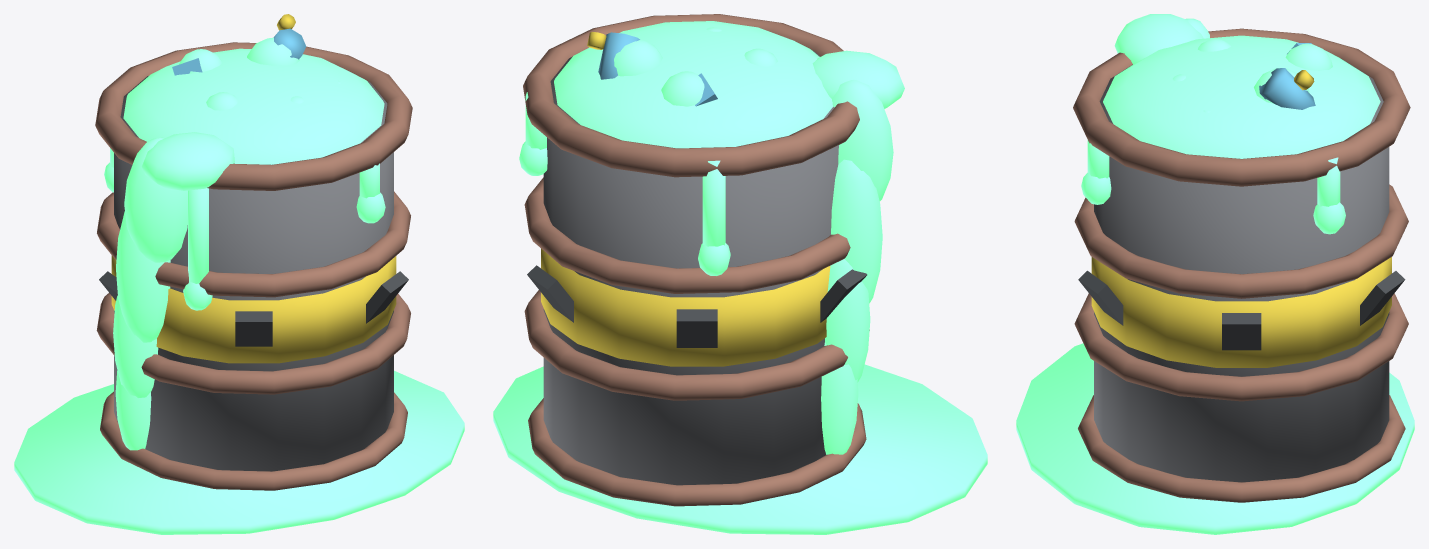
The model's file is garbage_jar.glb.
The picture shows the model from 3 angles, left to right: view 1: azimuth 30°, elevation 25°; view 2: azimuth 150°, elevation 25°; view 3: azimuth 270°, elevation 25°; orthographic projection. The views are drawn at different scales.
Visible parts, largest first — view 1: DrumBody, GroundSlimePuddle, ToxicPool, HazardBand, TopRim, MiddleRib, MiddleRib.001, BaseRim, SpillBlob_1, SpillBlob_0, SpillBlob_2, SpillBlob_3 (+10 smaller); view 2: DrumBody, GroundSlimePuddle, ToxicPool, HazardBand, TopRim, MiddleRib.001, MiddleRib, BaseRim, SpillBlob_2, SpillBlob_1, SpillBlob_3, SpillBlob_0 (+10 smaller); view 3: DrumBody, ToxicPool, GroundSlimePuddle, HazardBand, TopRim, MiddleRib.001, MiddleRib, BaseRim, SpillBlob_0, HazardChevron_0, PlasticBottle_Body, HazardChevron_5 (+6 smaller).
Boxes of the visible parts, x1=… form: DrumBody: x1=114, y1=76, x2=393, y2=471; GroundSlimePuddle: x1=14, y1=370, x2=464, y2=534; ToxicPool: x1=123, y1=48, x2=384, y2=164; HazardBand: x1=111, y1=255, x2=396, y2=363; TopRim: x1=95, y1=42, x2=412, y2=190; MiddleRib: x1=96, y1=293, x2=410, y2=394; MiddleRib.001: x1=97, y1=191, x2=410, y2=297; BaseRim: x1=100, y1=391, x2=407, y2=490; SpillBlob_1: x1=124, y1=137, x2=187, y2=262; SpillBlob_0: x1=142, y1=132, x2=234, y2=190; SpillBlob_2: x1=116, y1=211, x2=170, y2=342; SpillBlob_3: x1=113, y1=295, x2=158, y2=397; DrumBody: x1=543, y1=51, x2=838, y2=485; GroundSlimePuddle: x1=493, y1=364, x2=987, y2=534; ToxicPool: x1=554, y1=21, x2=832, y2=148; HazardBand: x1=541, y1=248, x2=830, y2=366; TopRim: x1=523, y1=14, x2=859, y2=177; MiddleRib.001: x1=524, y1=177, x2=850, y2=293; MiddleRib: x1=524, y1=290, x2=869, y2=400; BaseRim: x1=528, y1=398, x2=866, y2=506; SpillBlob_2: x1=831, y1=159, x2=882, y2=303; SpillBlob_1: x1=832, y1=80, x2=893, y2=201; SpillBlob_3: x1=825, y1=259, x2=870, y2=382; SpillBlob_0: x1=812, y1=50, x2=904, y2=108; DrumBody: x1=1094, y1=59, x2=1389, y2=482; ToxicPool: x1=1103, y1=35, x2=1380, y2=158; GroundSlimePuddle: x1=1016, y1=343, x2=1414, y2=534; HazardBand: x1=1091, y1=257, x2=1391, y2=367; TopRim: x1=1073, y1=28, x2=1410, y2=186; MiddleRib.001: x1=1074, y1=184, x2=1408, y2=298; MiddleRib: x1=1074, y1=293, x2=1408, y2=401; BaseRim: x1=1078, y1=395, x2=1405, y2=502; SpillBlob_0: x1=1114, y1=14, x2=1203, y2=64; HazardChevron_0: x1=1222, y1=313, x2=1261, y2=350; PlasticBottle_Body: x1=1259, y1=68, x2=1315, y2=109; HazardChevron_5: x1=1078, y1=270, x2=1123, y2=325.
Bounding box in the file's own units: 1.52 × 1.36 × 1.22.
